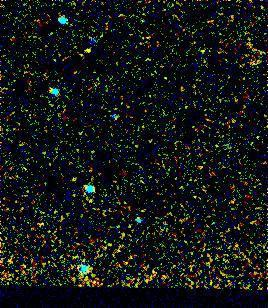star: (73, 36, 103, 66)
